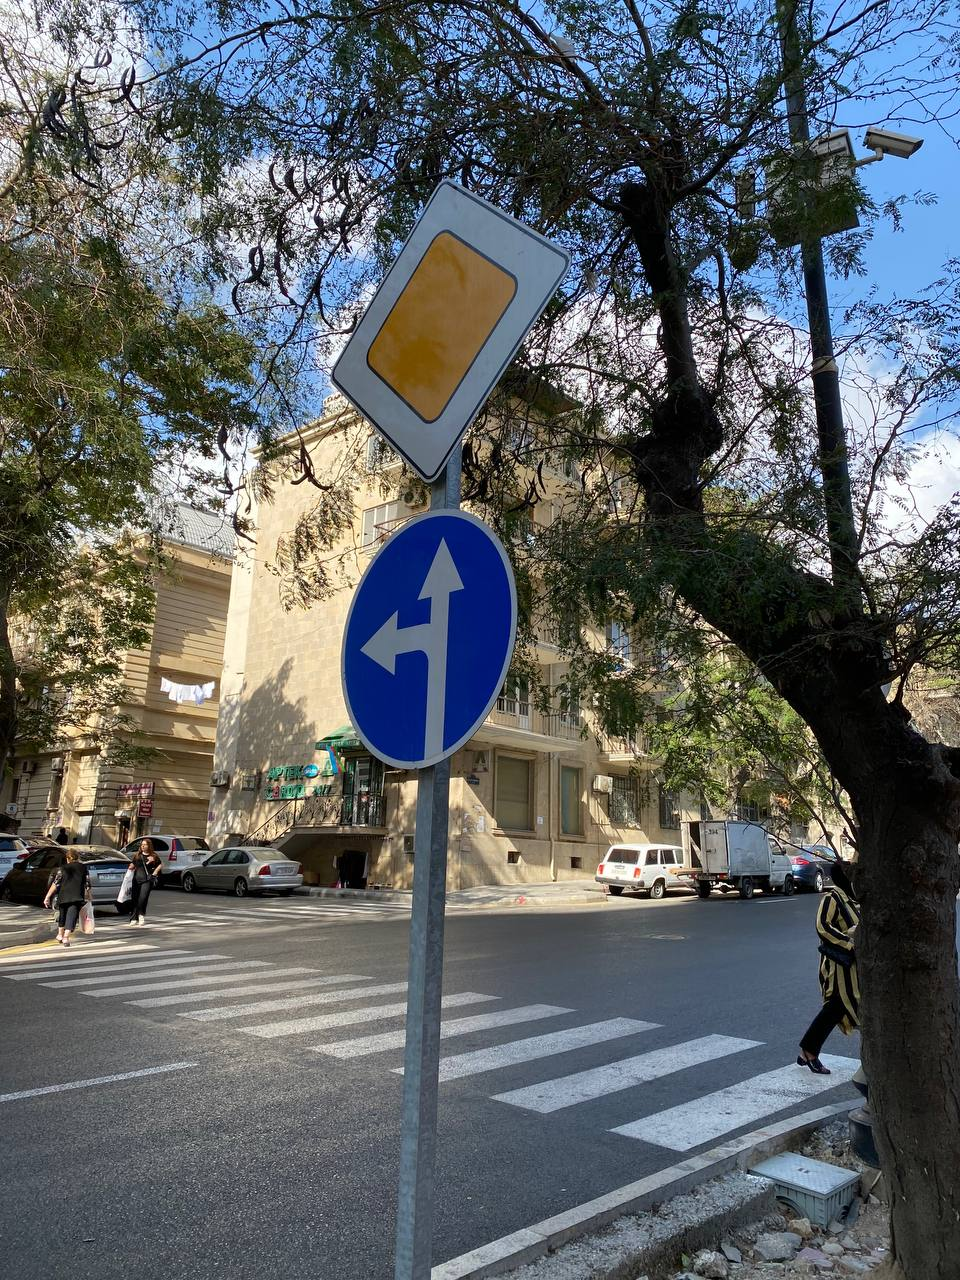Main Road: (331, 179, 570, 483)
Straight or Left: (340, 507, 519, 771)
